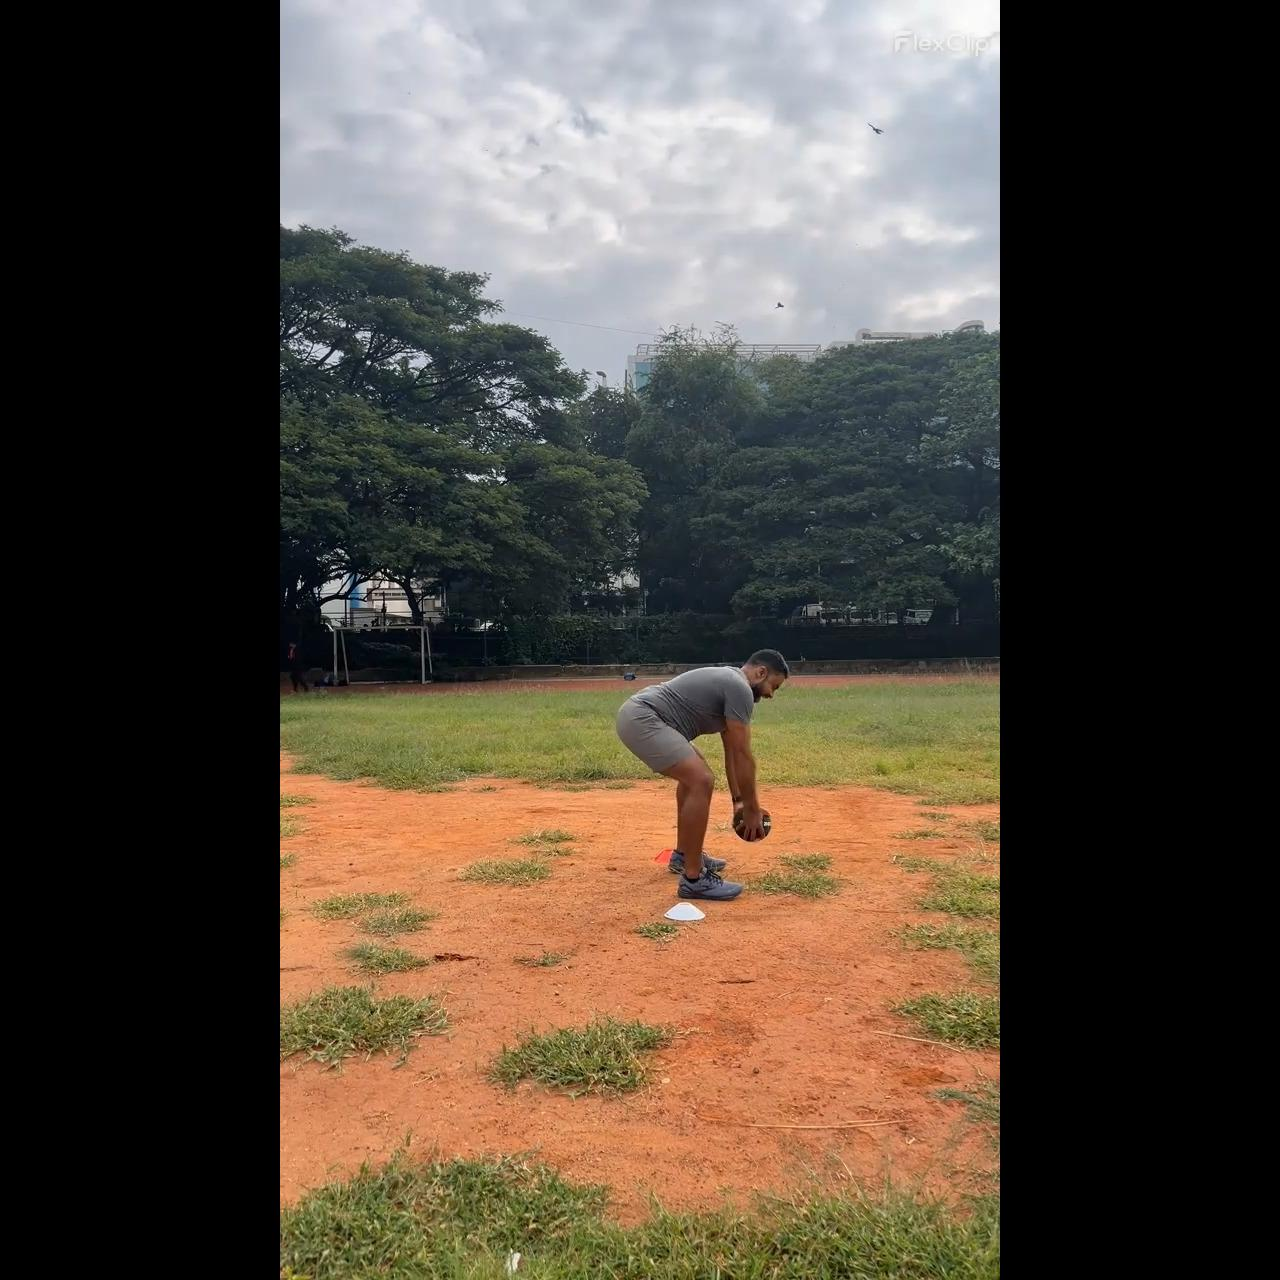Athelete: (615, 649, 790, 903)
